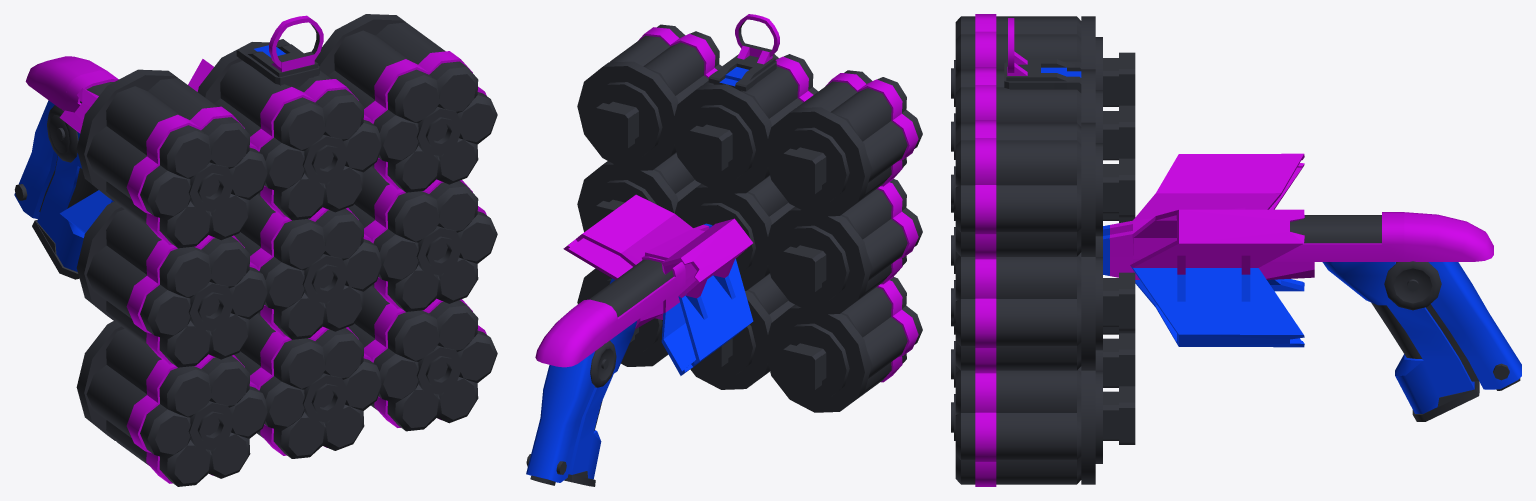
File: BlasterDetailed.fbx
3 views of the same model, side by side, from view 1: azimuth 30°, elevation 25°; view 2: azimuth 150°, elevation 25°; view 3: azimuth 270°, elevation 25° (orthographic). The views are drawn at different scales.
Visible parts, largest first — view 1: magazine_hercules_grenadeBarrel (×9), grip_viper30d_1b, scope_rapidAcquisition, blaster_front_alienFlower, detail_top_carmine_back_short, detail_top_carmine_center_detail_b; view 2: magazine_hercules_grenadeBarrel (×9), blaster_front_alienFlower, barrel_back_rect (×6), grip_viper30d_1b, detail_top_carmine_center_detail_b, detail_top_carmine_back_short, scope_rapidAcquisition; view 3: magazine_hercules_grenadeBarrel (×5), blaster_front_alienFlower, grip_viper30d_1b, barrel_back_rect (×6), detail_top_carmine_center_detail_b, detail_top_carmine_back_short, scope_rapidAcquisition.
Part boxes in pixels (x1,y1,x2,y2): magazine_hercules_grenadeBarrel (×9): (76,14,497,486); grip_viper30d_1b: (14,100,98,279); scope_rapidAcquisition: (236,15,323,88); blaster_front_alienFlower: (59,59,213,233); detail_top_carmine_back_short: (25,56,106,111); detail_top_carmine_center_detail_b: (65,70,118,112); magazine_hercules_grenadeBarrel (×9): (577,24,922,412); blaster_front_alienFlower: (563,194,753,375); barrel_back_rect (×6): (593,101,826,392); grip_viper30d_1b: (526,321,636,486); detail_top_carmine_center_detail_b: (575,255,685,341); detail_top_carmine_back_short: (535,306,608,367); scope_rapidAcquisition: (708,14,779,91); magazine_hercules_grenadeBarrel (×5): (951,14,1102,486); blaster_front_alienFlower: (1103,153,1314,347); grip_viper30d_1b: (1322,261,1521,421); barrel_back_rect (×6): (1103,52,1135,444); detail_top_carmine_center_detail_b: (1270,212,1404,261); detail_top_carmine_back_short: (1404,212,1493,261); scope_rapidAcquisition: (1004,18,1081,92).
Size of the model in its own units: 21.79 by 24.78 by 31.82.
